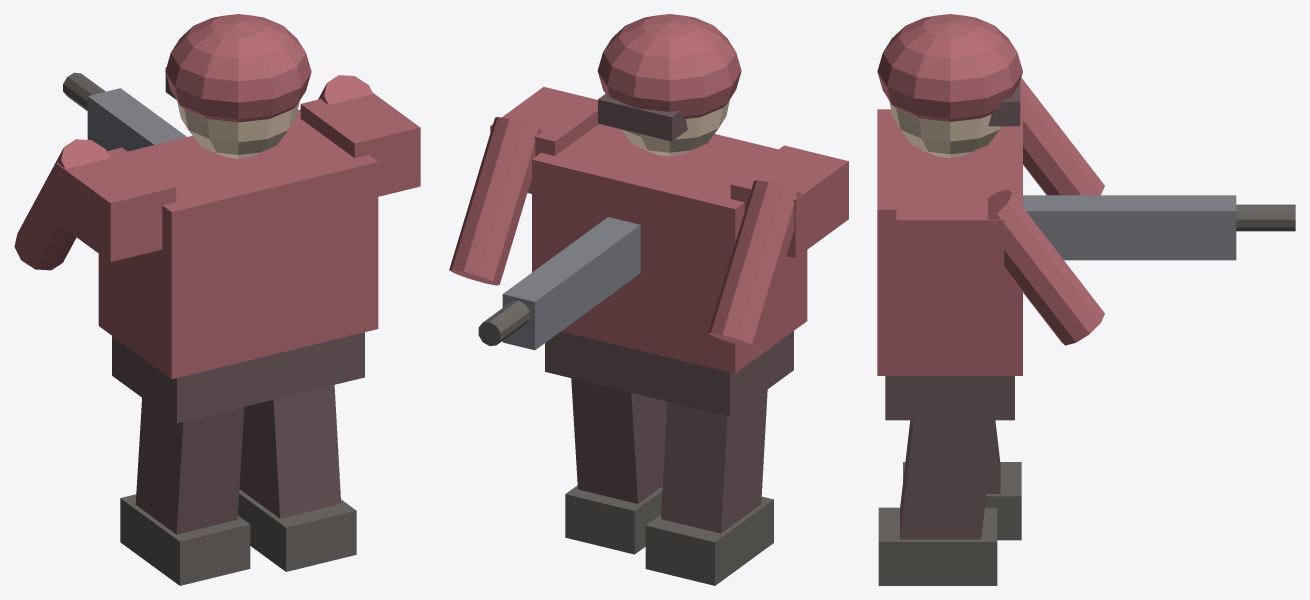
The model's file is so_rifle.glb.
3 views of the same model, side by side, from view 1: azimuth 30°, elevation 25°; view 2: azimuth 150°, elevation 25°; view 3: azimuth 270°, elevation 25° (orthographic).
Visible parts, largest first — view 1: soldier; view 2: soldier; view 3: soldier.
Boxes of the visible parts, x1,y1,x2,y2 form: soldier: (14,14,420,585); soldier: (449,14,848,585); soldier: (877,14,1295,585).
Size of the model in its own units: 0.66 by 1.07 by 0.775.
